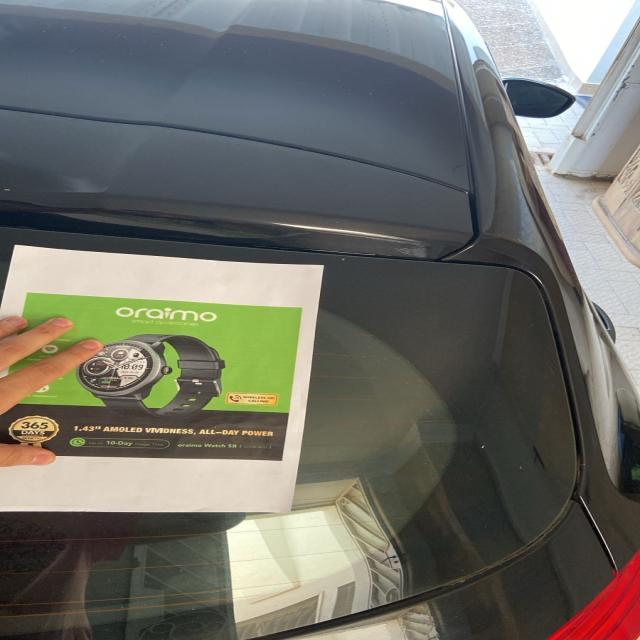Oraimo Watch 5R OSW-820: (171, 441, 280, 453)
